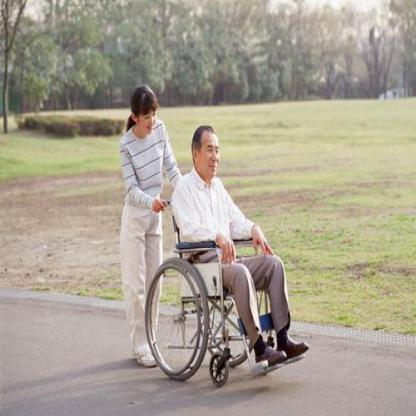wheelchair: (145, 128, 311, 393)
